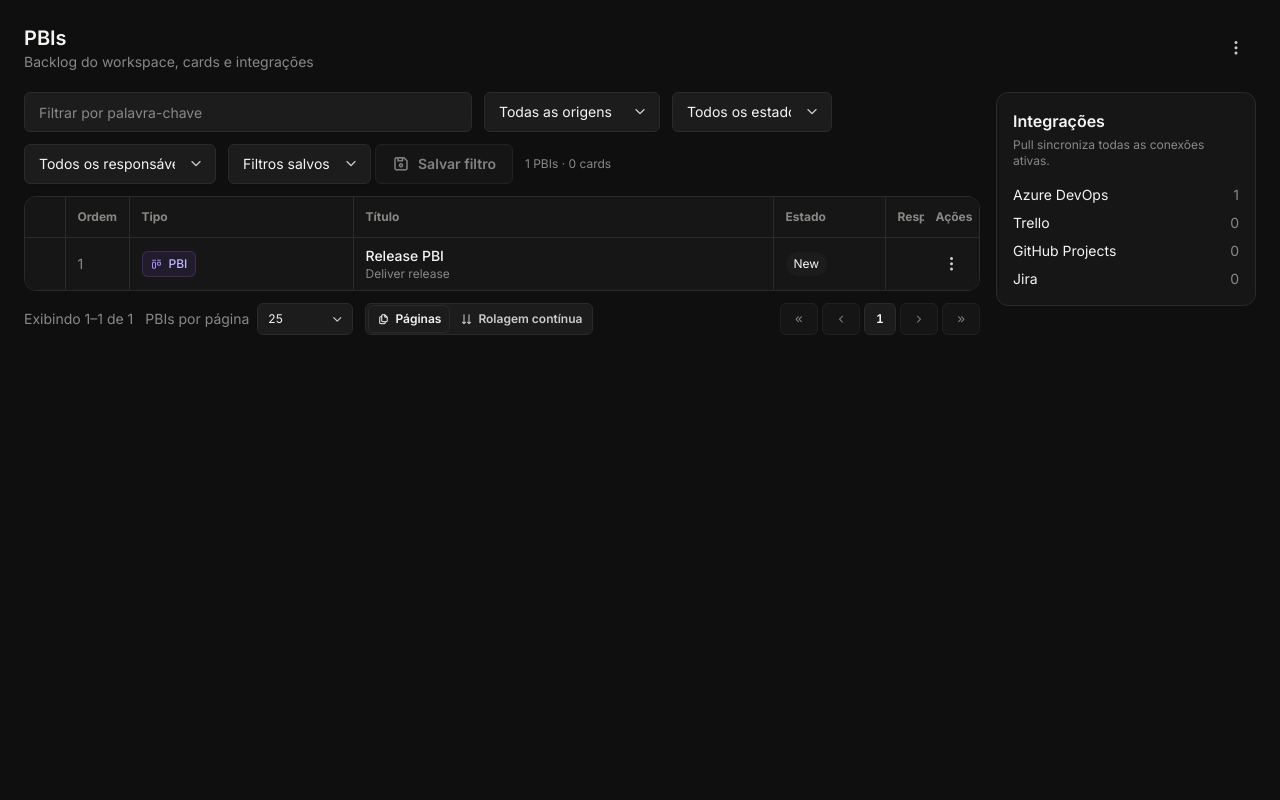
Test case: PbiView › loads missing Azure children when opening a linked PBI
The width and height of the screenshot is (1280, 800).
Step 1. Click the button "Release PBI" → (405, 256), box [366,246,760,266]
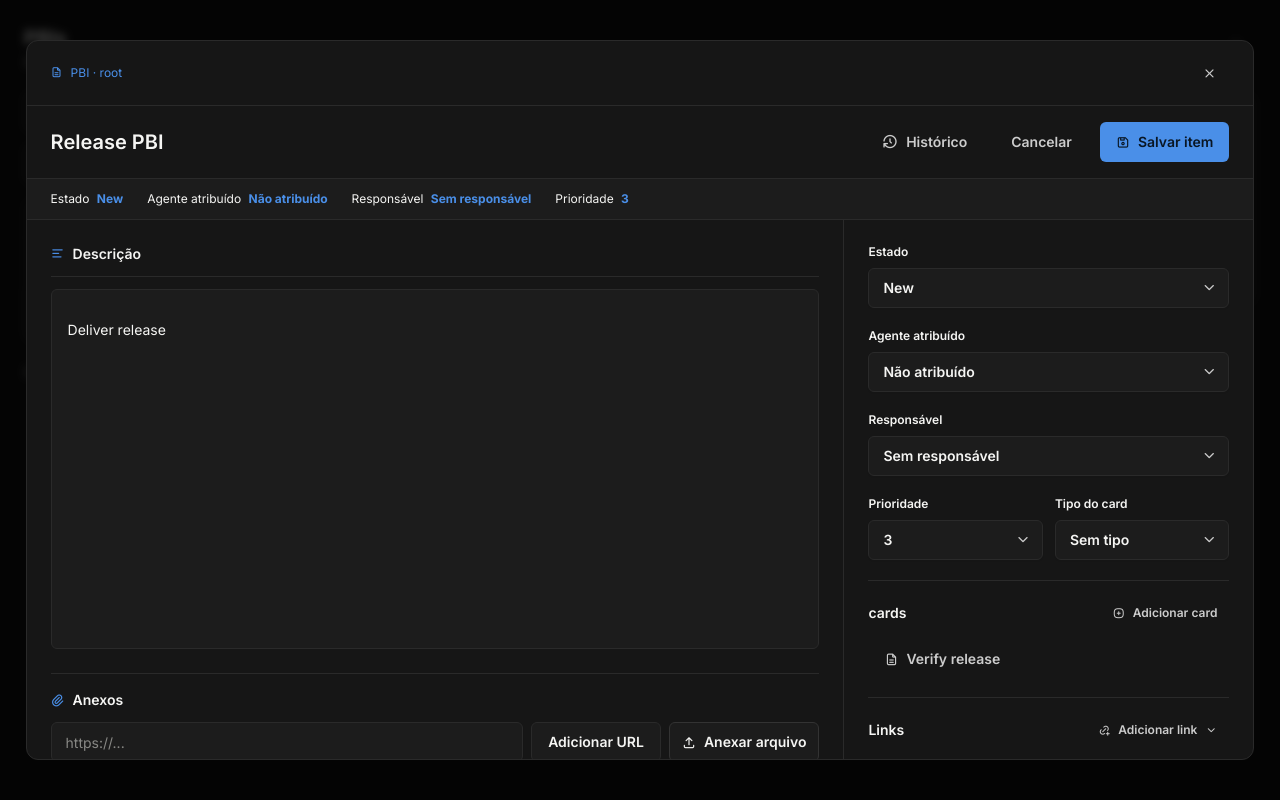
expect the button "Verify release" is shown: met, box [868,641,1229,677]
